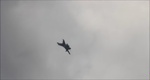maybay_muctieu: (57, 39, 73, 56)
